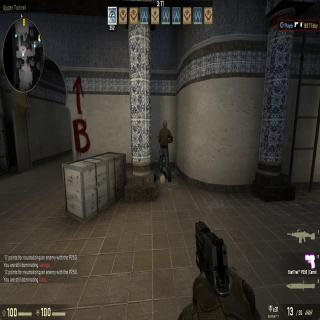T-Body: (159, 118, 171, 180)
T-Head: (162, 119, 168, 129)
